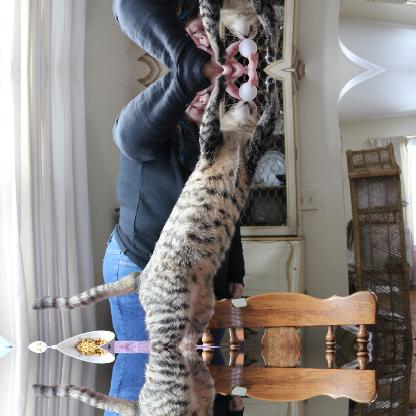Cat: (30, 72, 280, 346), (29, 346, 281, 415), (29, 0, 281, 67)
